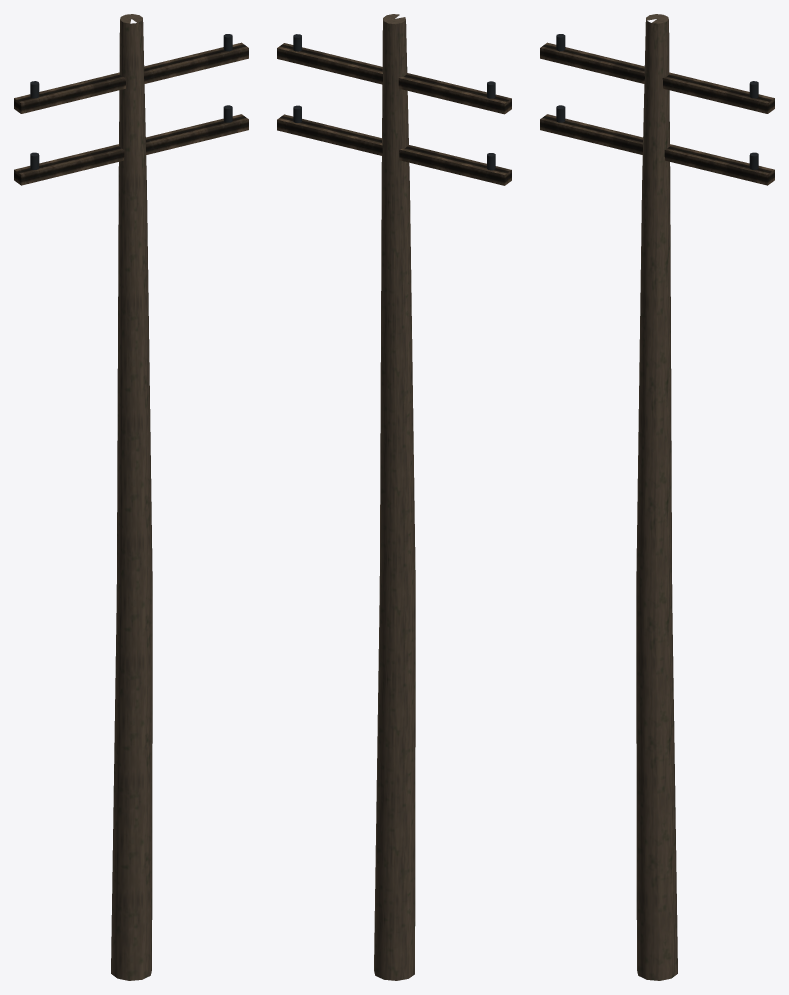
The model's file is road.prop.powerpole.glb.
3 views of the same model, side by side, from view 1: azimuth 30°, elevation 25°; view 2: azimuth 150°, elevation 25°; view 3: azimuth 330°, elevation 25° (orthographic).
Visible parts, largest first — view 1: road.prop.powerpole; view 2: road.prop.powerpole; view 3: road.prop.powerpole.
Part boxes in pixels (x1,y1,x2,y2): road.prop.powerpole: [14, 14, 248, 980]; road.prop.powerpole: [277, 14, 511, 980]; road.prop.powerpole: [540, 14, 774, 980].
Size of the model in its own units: 2 by 8 by 0.35.
3 materials, 3 textured.
